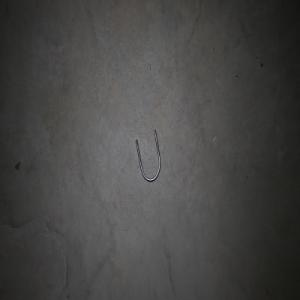ClampPart: (134, 128, 161, 183)
